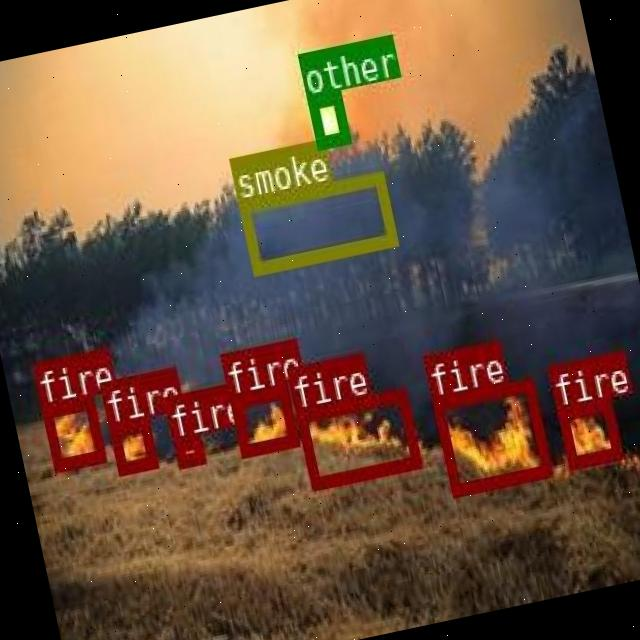fire: (429, 376, 548, 494), (293, 386, 420, 487), (39, 394, 104, 469), (227, 385, 296, 455), (554, 396, 620, 466), (107, 416, 156, 474), (170, 433, 202, 467)
smoke: (238, 171, 394, 272)
